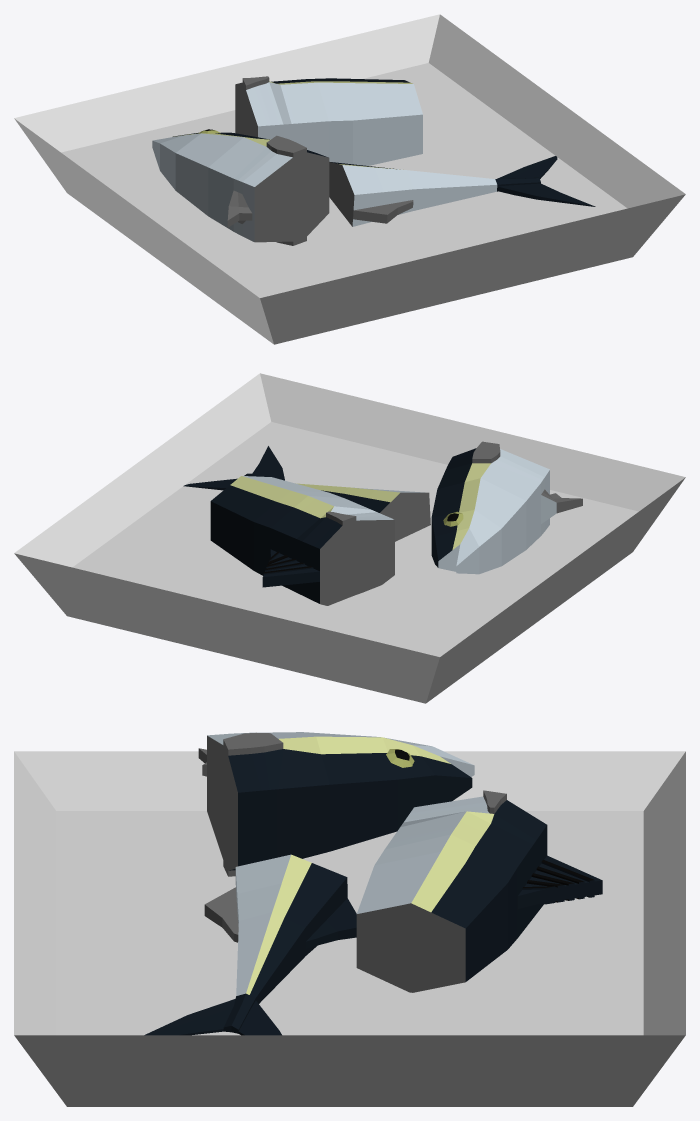
Rendered from Mackerel Sliced on Plate.fbx.
3 renders of one model, top to bottom at view 1: azimuth 30°, elevation 25°; view 2: azimuth 150°, elevation 25°; view 3: azimuth 270°, elevation 25°, orthographic. The views are drawn at different scales.
Parts seen in each view (by area): view 1: Mackerel on Plate; view 2: Mackerel on Plate; view 3: Mackerel on Plate.
Part boxes in pixels (x1=…): Mackerel on Plate: x1=14, y1=14, x2=685, y2=344; Mackerel on Plate: x1=14, y1=373, x2=685, y2=703; Mackerel on Plate: x1=14, y1=732, x2=685, y2=1106.
Size of the model in its own units: 124 by 36.51 by 124.
